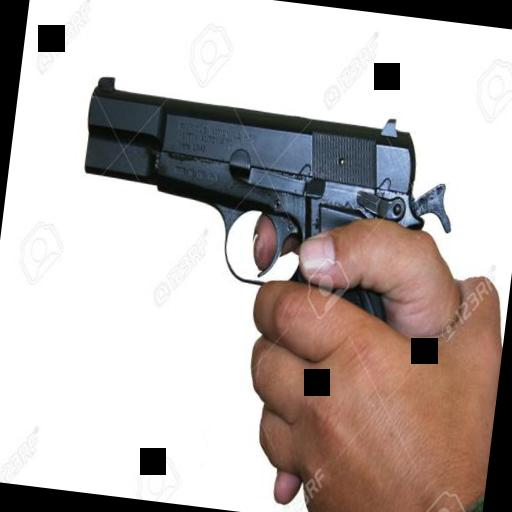Handgun: (62, 74, 464, 348)
